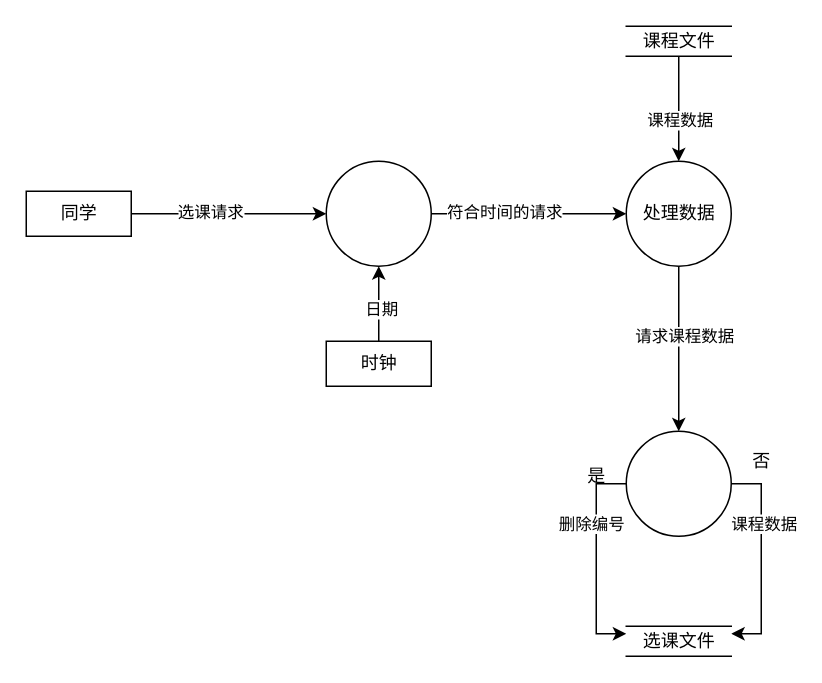
Some shapes in this 822 by 683 pixel diagram are drawn without their labels. The box of each missing label's shape, as (x1, y1, x2, y2) in pixels:
判断是否为 删除请求: (625, 430, 731, 536)
是否在开学 一周内: (325, 160, 431, 266)
